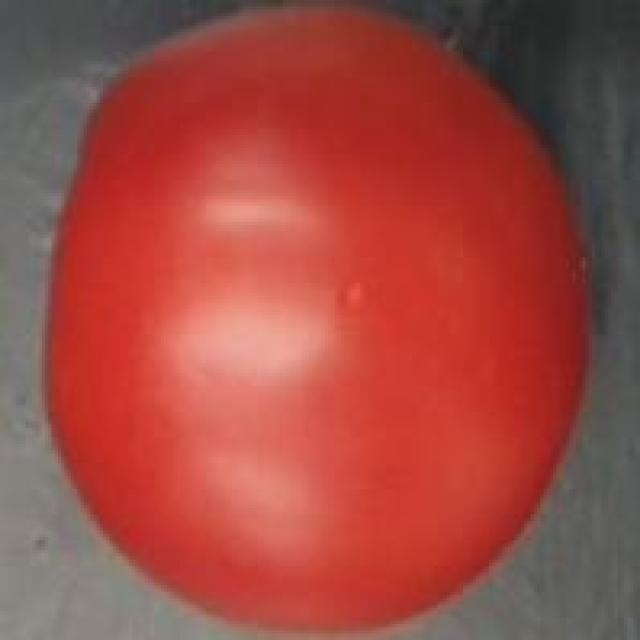ripe tomato: (35, 0, 595, 640)
